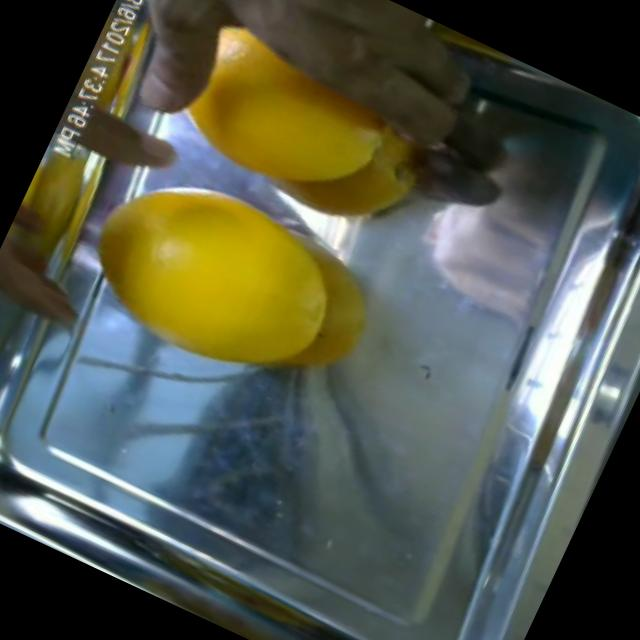Fruit: (44, 132, 312, 390), (164, 176, 418, 424)
